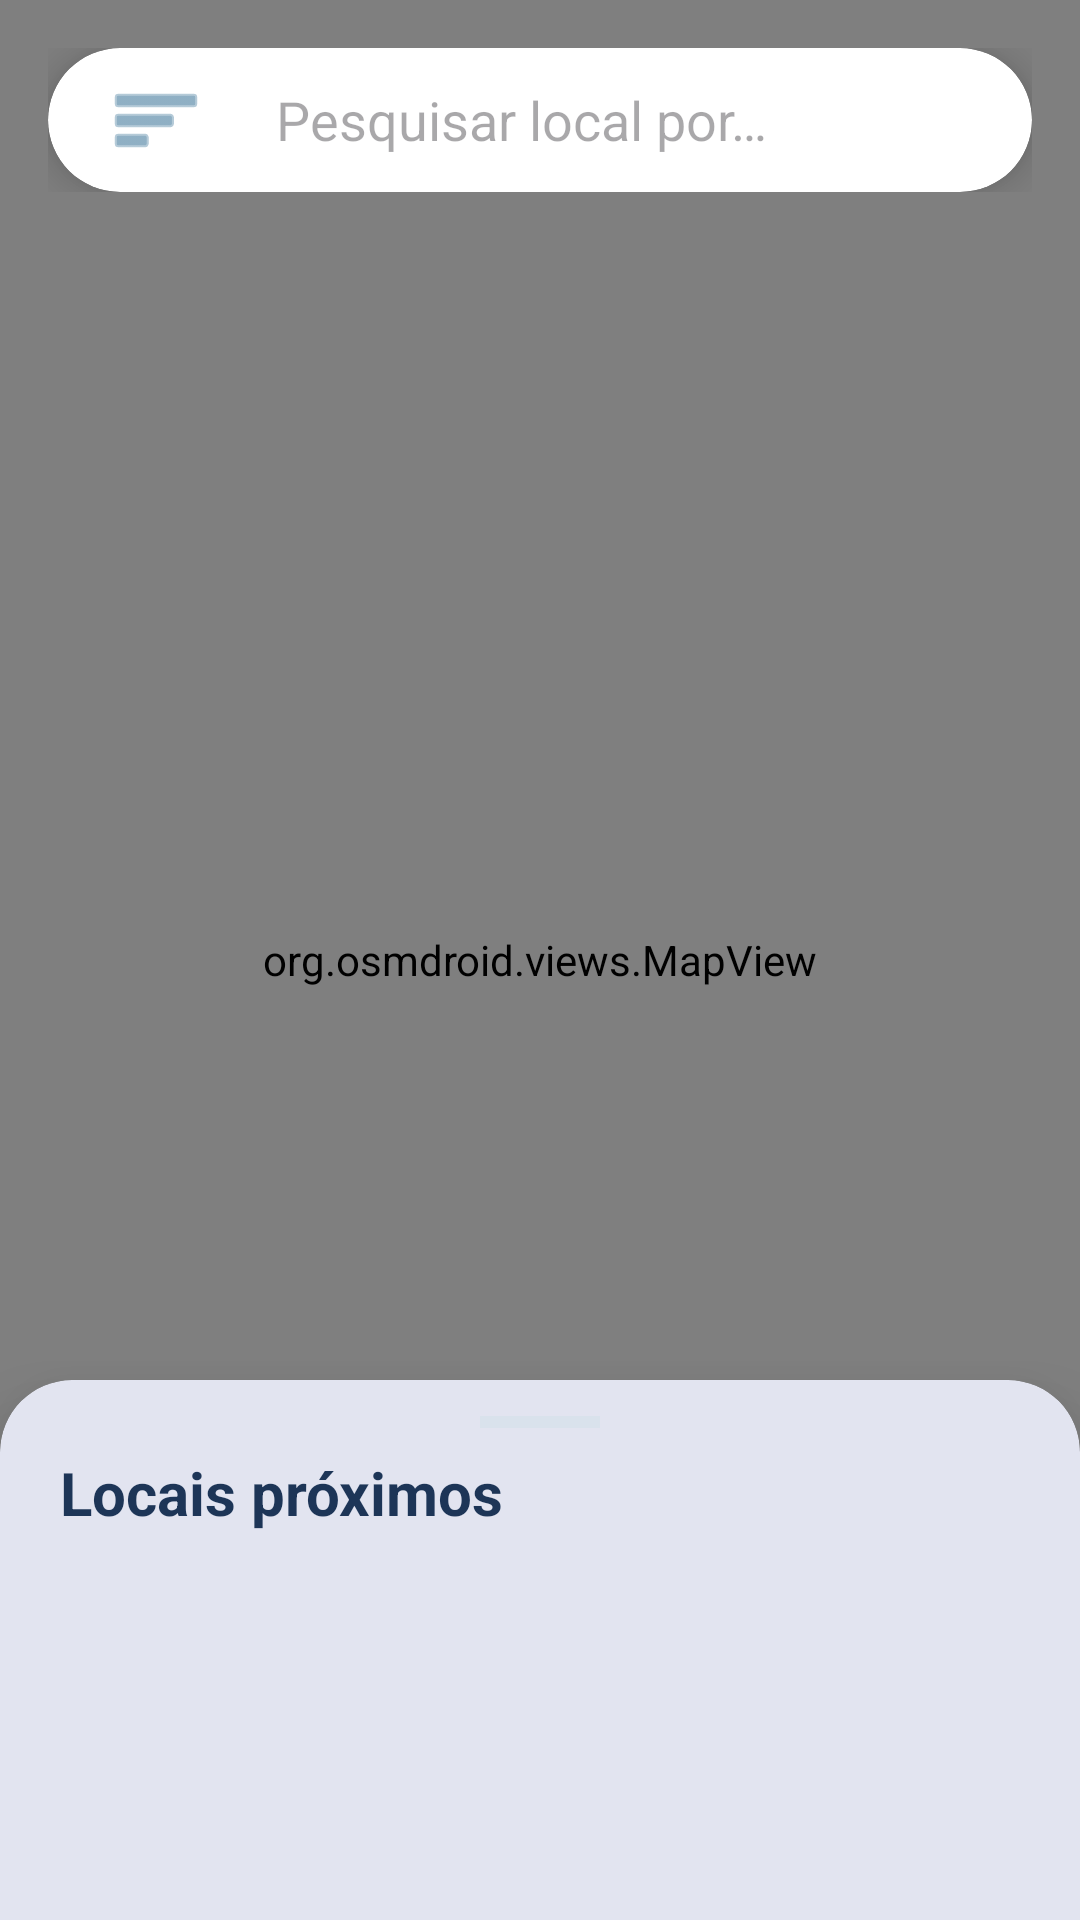

Icons on this 1080×1920 Android screen, each with the point to tap as (x=x, y=y):
Ícone do Menu Lateral: (x=156, y=120)
